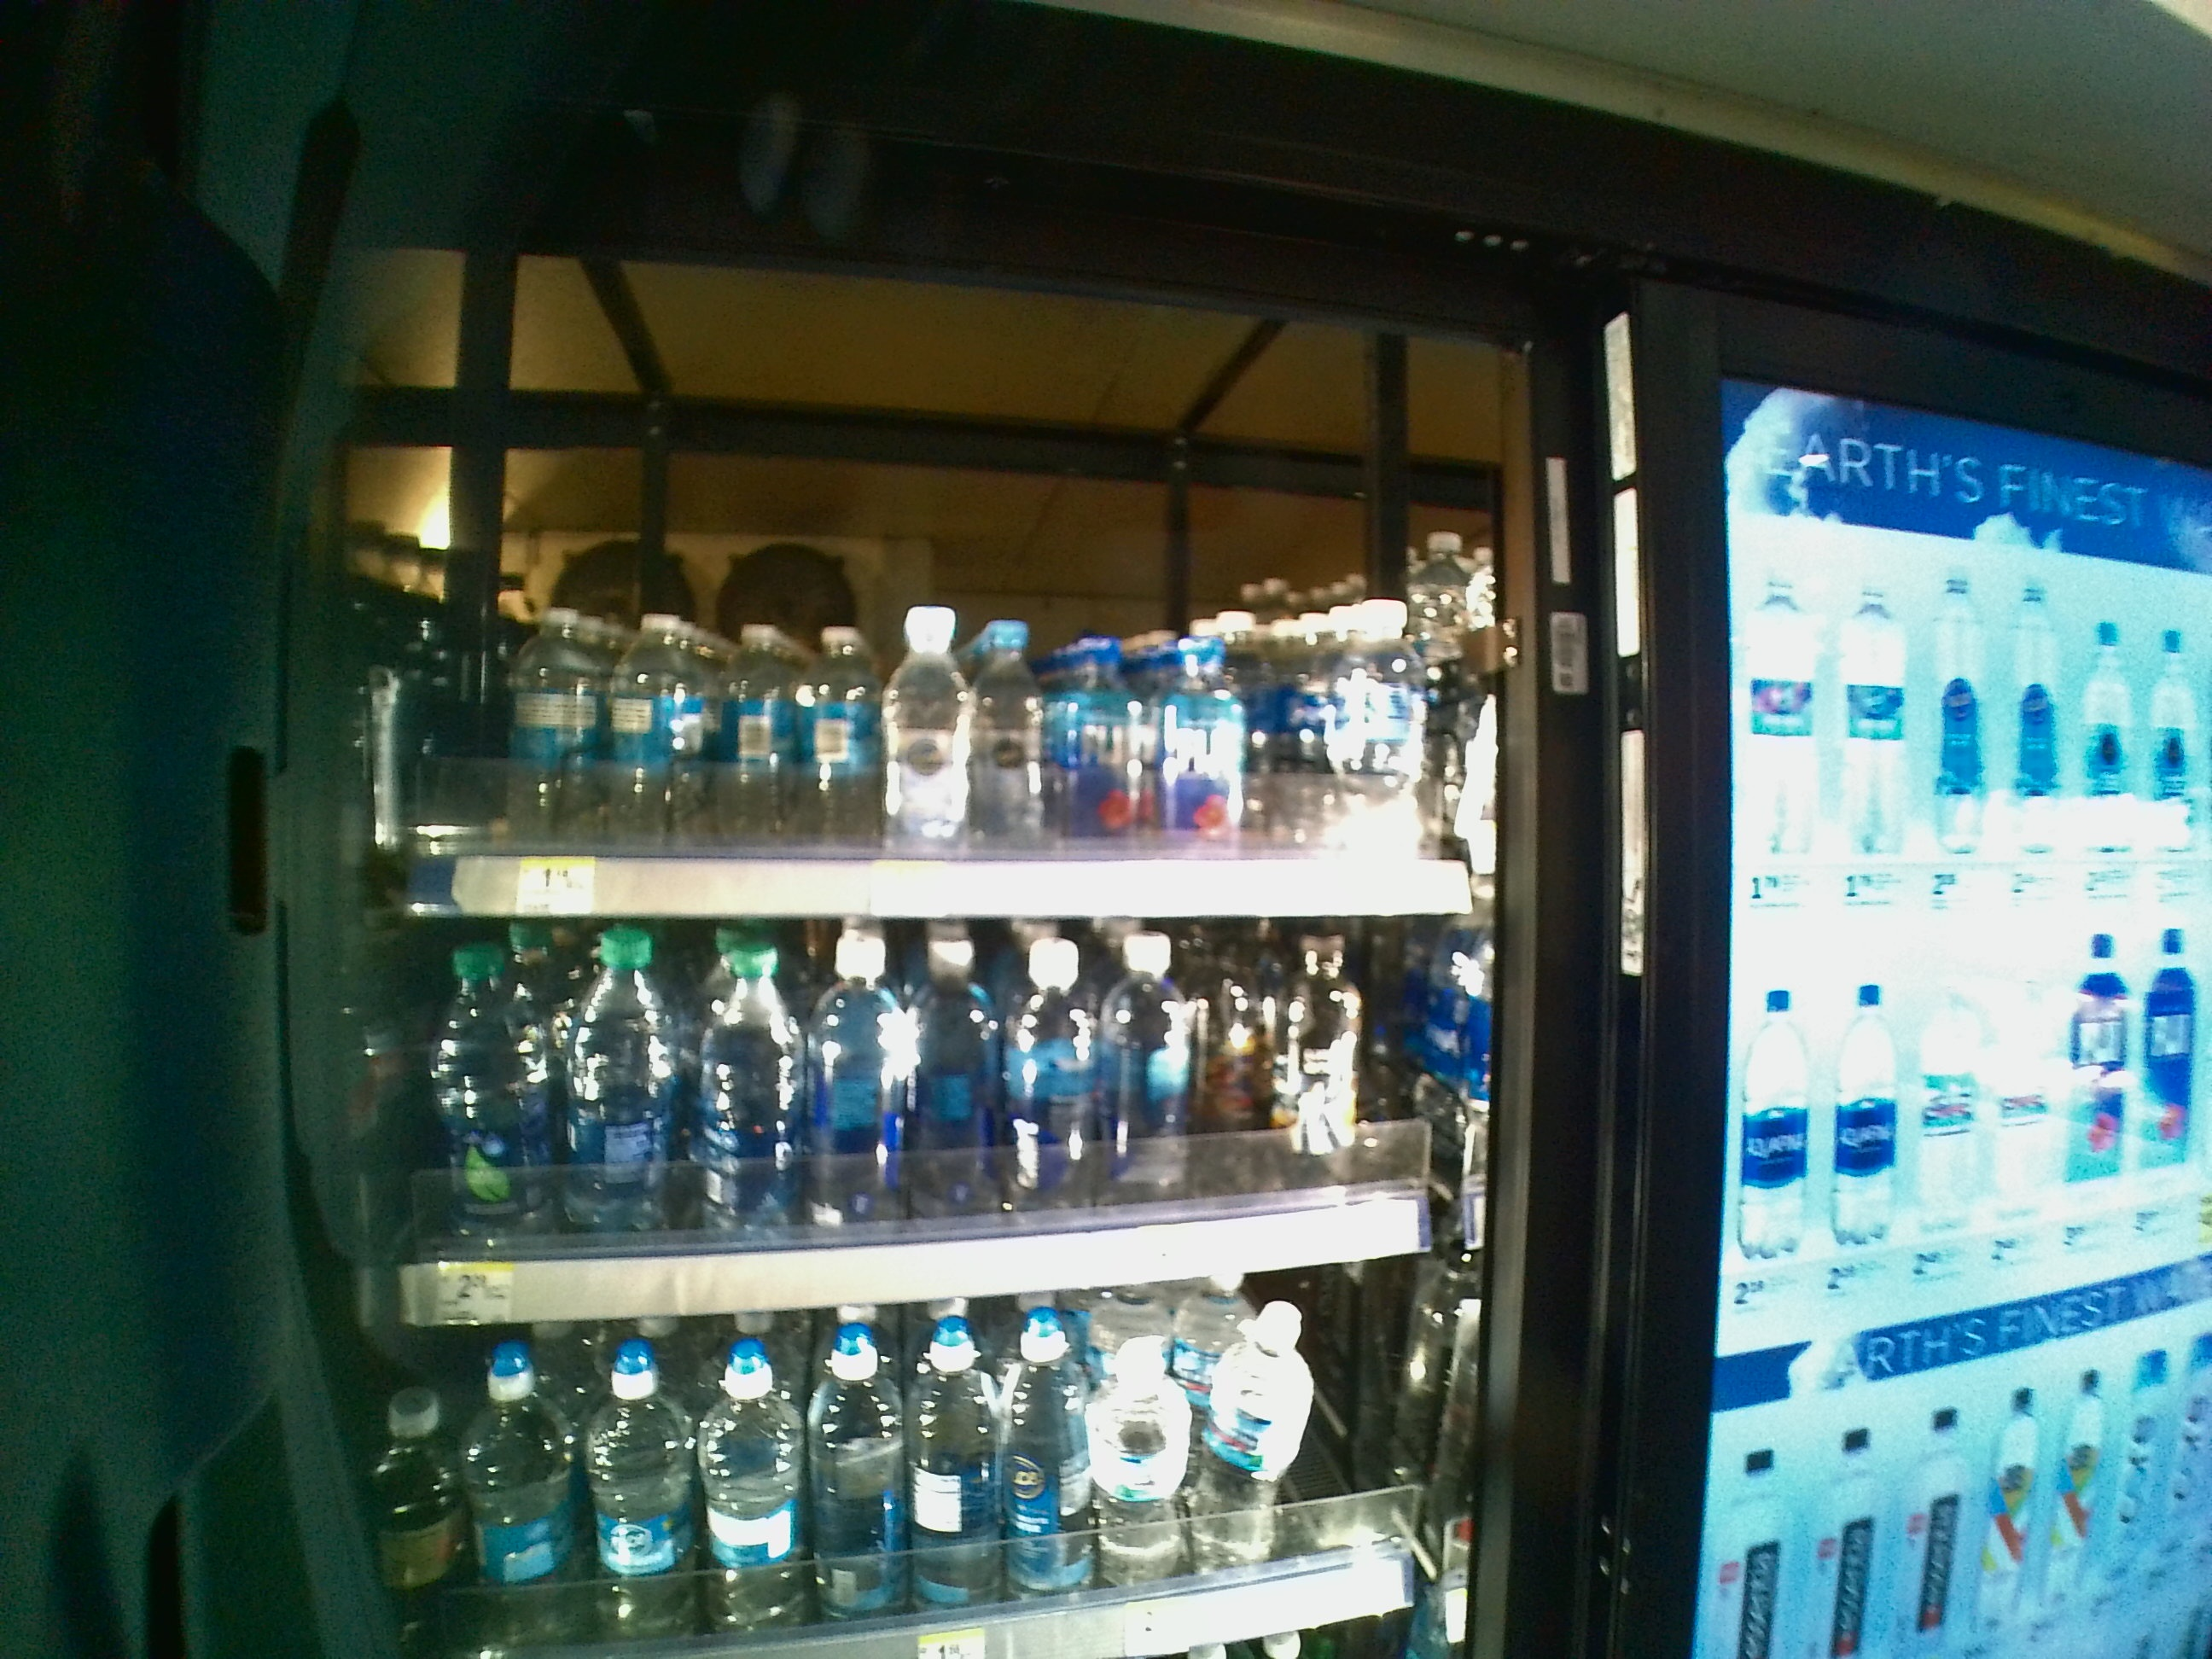shelf: (348, 244, 1508, 918), (347, 924, 1524, 1328)
